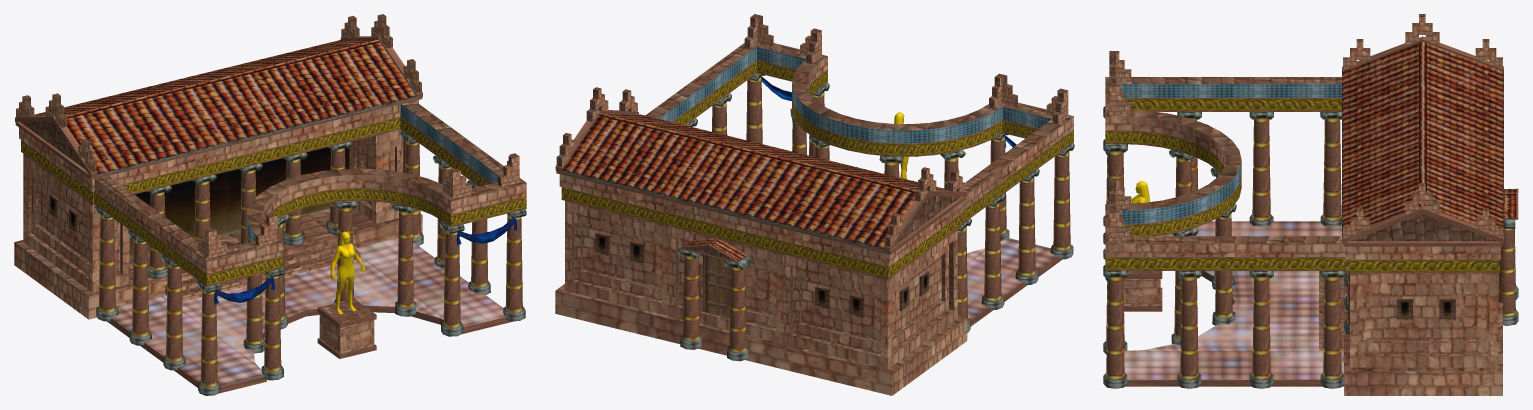
3 renders of one model, left to right at view 1: azimuth 30°, elevation 25°; view 2: azimuth 150°, elevation 25°; view 3: azimuth 270°, elevation 25°, orthographic. The views are drawn at different scales.
Visible parts, largest first — view 1: cc; view 2: cc; view 3: cc.
Part boxes in pixels (x1,y1,x2,y2): cc: (14,14,526,395); cc: (555,14,1074,395); cc: (1103,14,1518,395).
Bounding box in the file's own units: 24.43 × 24.68 × 14.55.
